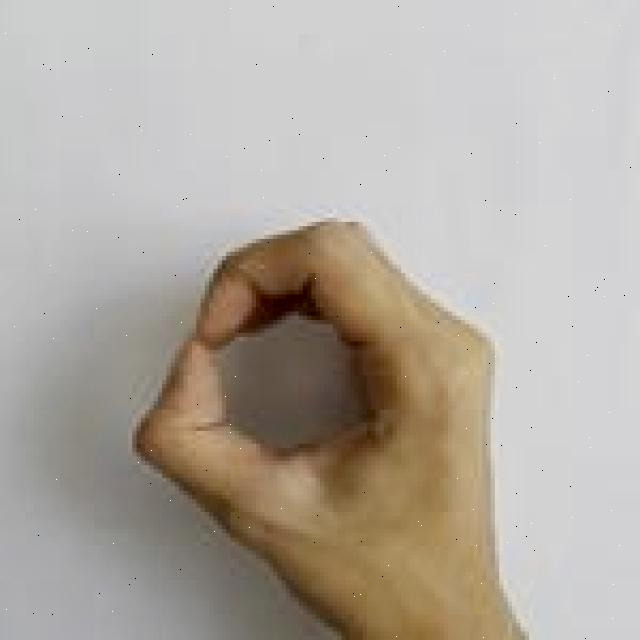O: (127, 206, 541, 640)
